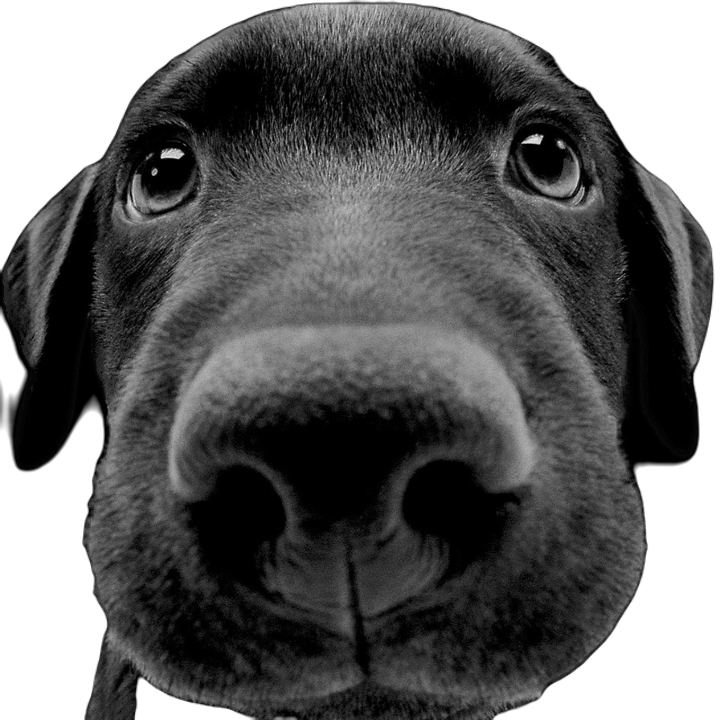Dog: (0, 0, 716, 720)
